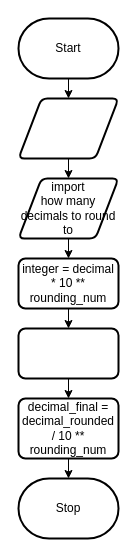
Some shapes in this 136 by 556 pixel diagram are drawn without their labels. The centre of each missing label's shape, as x and y in pixels:
"decimal_rounded = int(integer)" goes at [68,353].
"import decimals" goes at [68,128].
